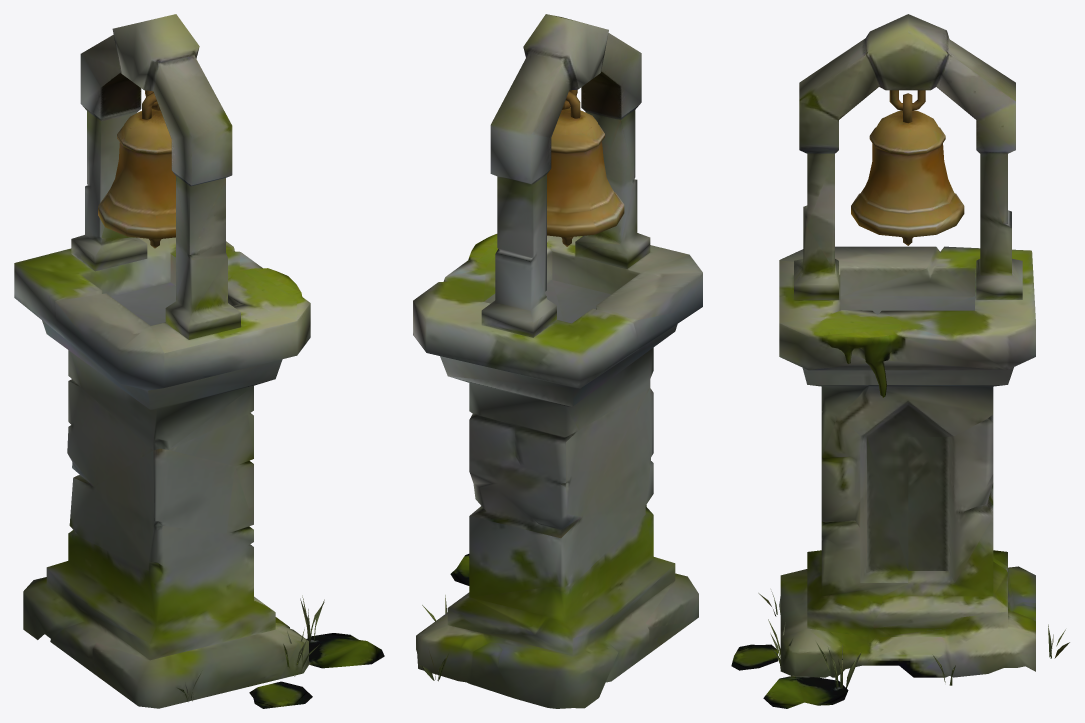
Rendered from delve_rite_shrine_bell.glb.
3 renders of one model, left to right at view 1: azimuth 30°, elevation 25°; view 2: azimuth 150°, elevation 25°; view 3: azimuth 270°, elevation 25°, orthographic. The views are drawn at different scales.
Parts seen in each view (by area): view 1: tripo_node_f75f364f-9c1d-4f60-9500-fc32ebc43877; view 2: tripo_node_f75f364f-9c1d-4f60-9500-fc32ebc43877; view 3: tripo_node_f75f364f-9c1d-4f60-9500-fc32ebc43877.
Boxes of the visible parts, box(x1,y1,x2,y2) form: tripo_node_f75f364f-9c1d-4f60-9500-fc32ebc43877: box(14, 14, 384, 708); tripo_node_f75f364f-9c1d-4f60-9500-fc32ebc43877: box(413, 14, 702, 708); tripo_node_f75f364f-9c1d-4f60-9500-fc32ebc43877: box(731, 14, 1069, 708).
Size of the model in its own units: 0.9084 by 2.2 by 1.1.
1 material, 1 textured.
